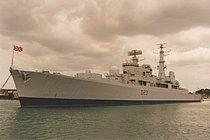MIL_Ship: (15, 38, 204, 106)
